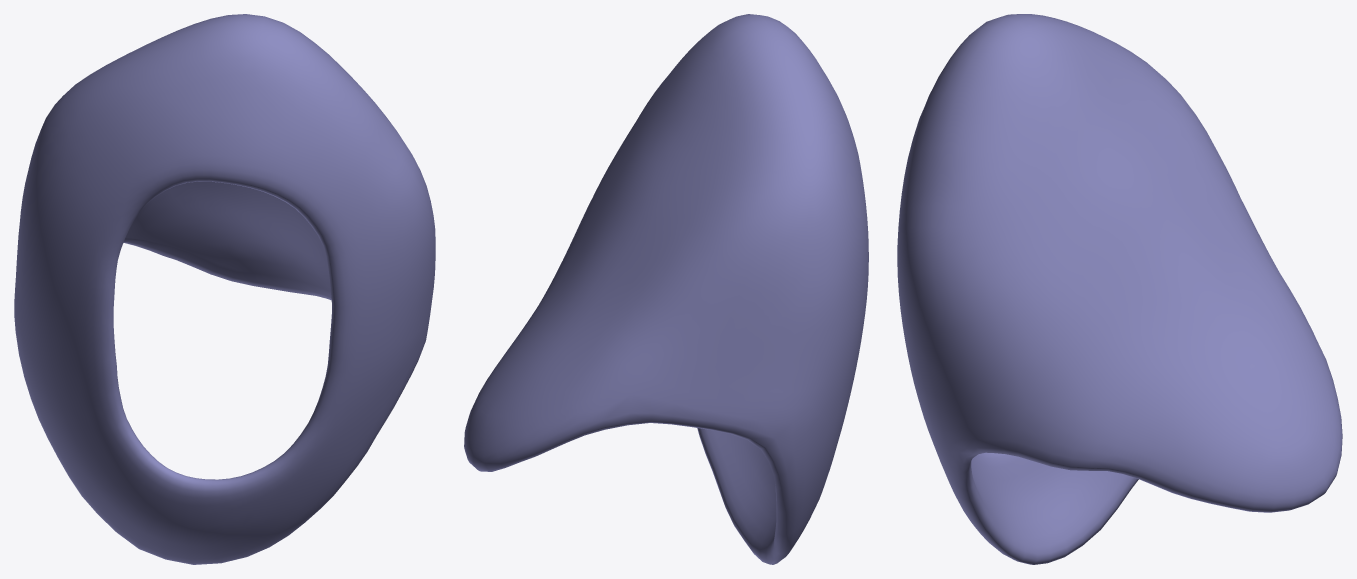
File: BL3_Frame_Classic.001.glb
3 renders of one model, left to right at view 1: azimuth 30°, elevation 25°; view 2: azimuth 150°, elevation 25°; view 3: azimuth 270°, elevation 25°, orthographic. The views are drawn at different scales.
Visible parts, largest first — view 1: BL3_Frame_Classic.001; view 2: BL3_Frame_Classic.001; view 3: BL3_Frame_Classic.001.
Boxes of the visible parts, left/top/right/bottom form: BL3_Frame_Classic.001: left=14, top=14, right=435, bottom=564; BL3_Frame_Classic.001: left=464, top=14, right=868, bottom=564; BL3_Frame_Classic.001: left=897, top=14, right=1342, bottom=564.
Bounding box in the file's own units: 0.7262 × 1.1 × 0.8098.
